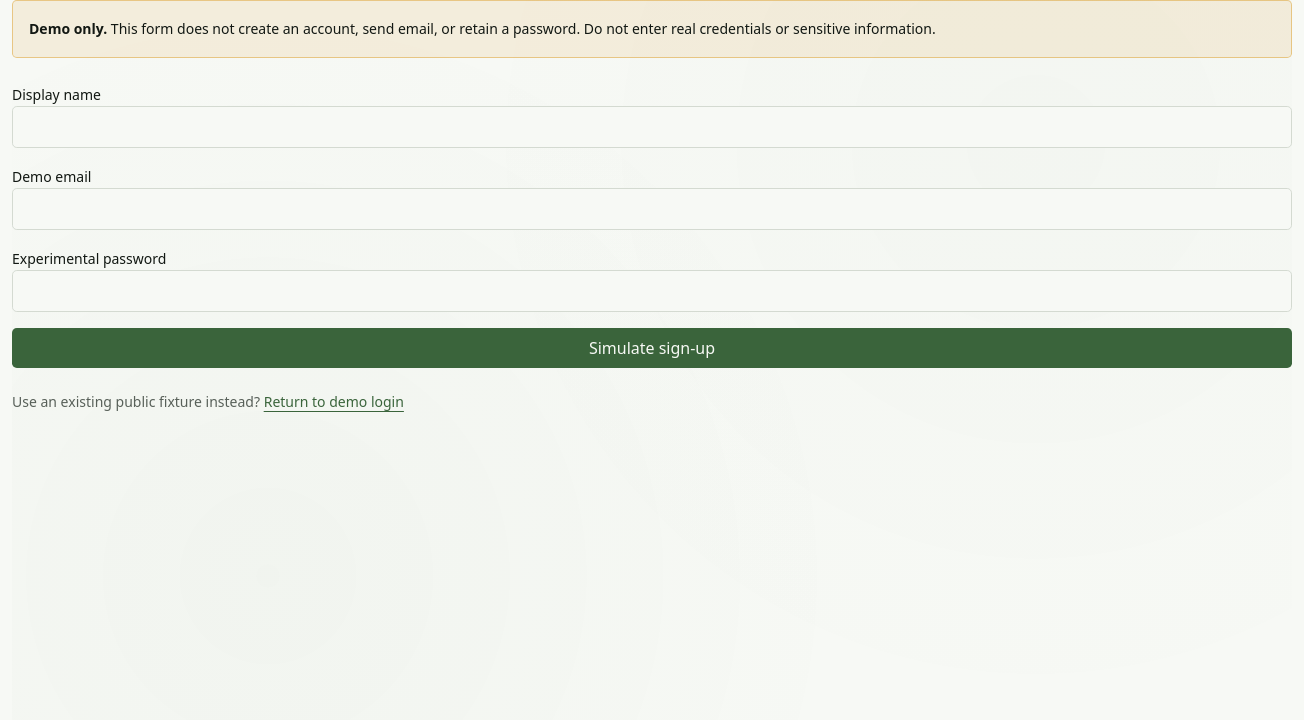
SignupForm › validates fields and clearly reports a non-account result
Expected: the element named "Demo security warning" shows "does not create an account", [107,19,936,38]
Click the button "Simulate sign-up" at [652, 348], box [12,328,1292,368]
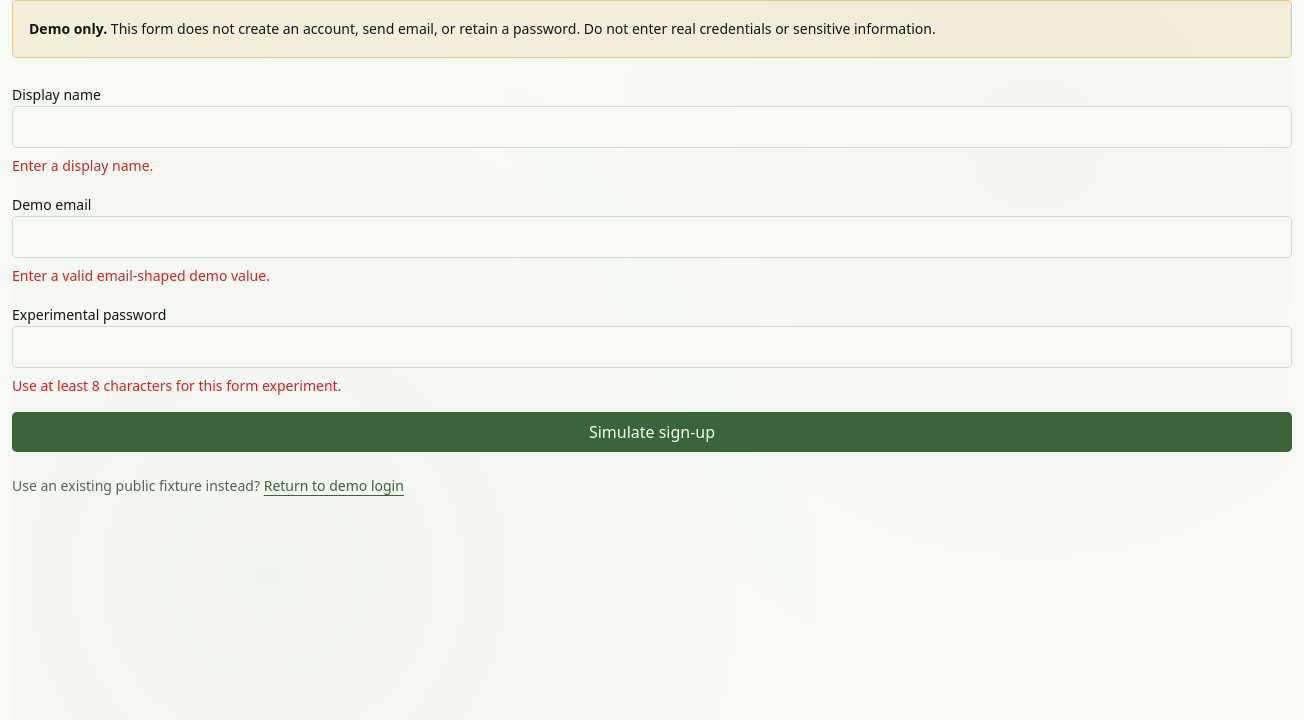
Expected: the text "Enter a display name." is shown, [12,156,153,175]
Type "Sample Person" into the field labelled "Display name" at [652, 127], box [12,106,1292,148]
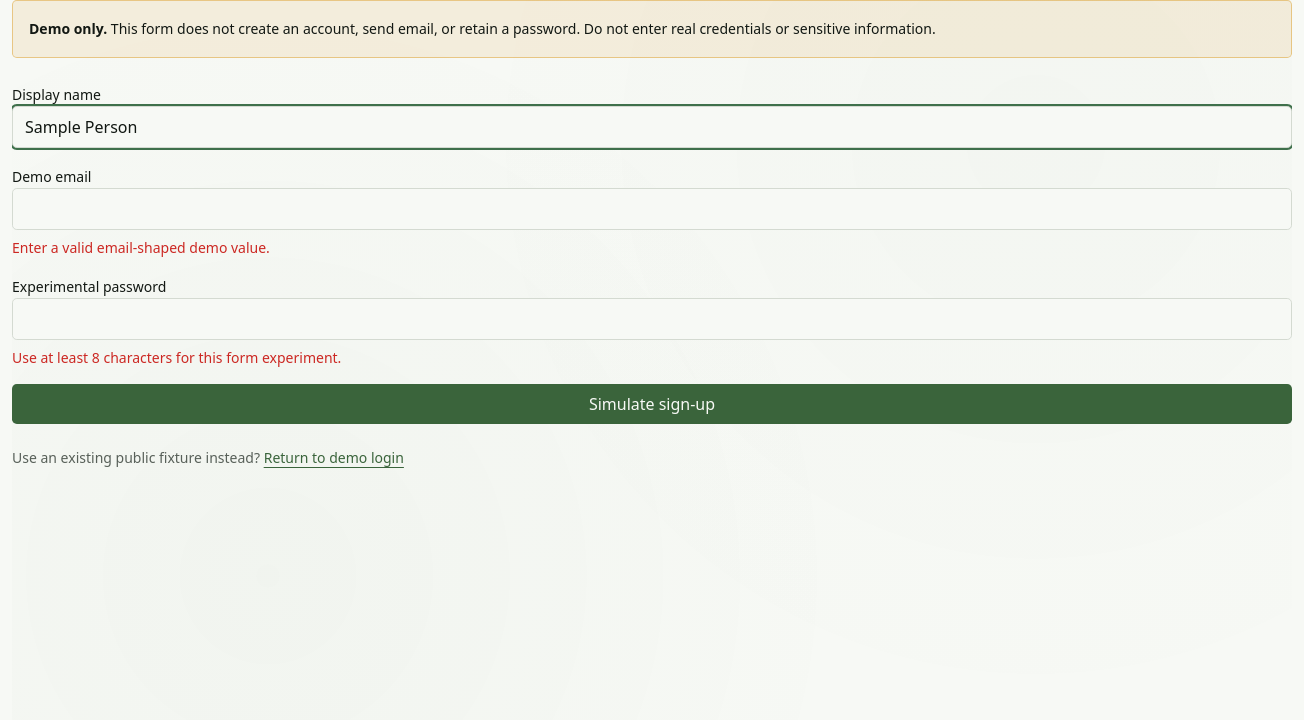
Type "sample@example.invalid" into the field labelled "Demo email" at [652, 209], box [12,188,1292,230]
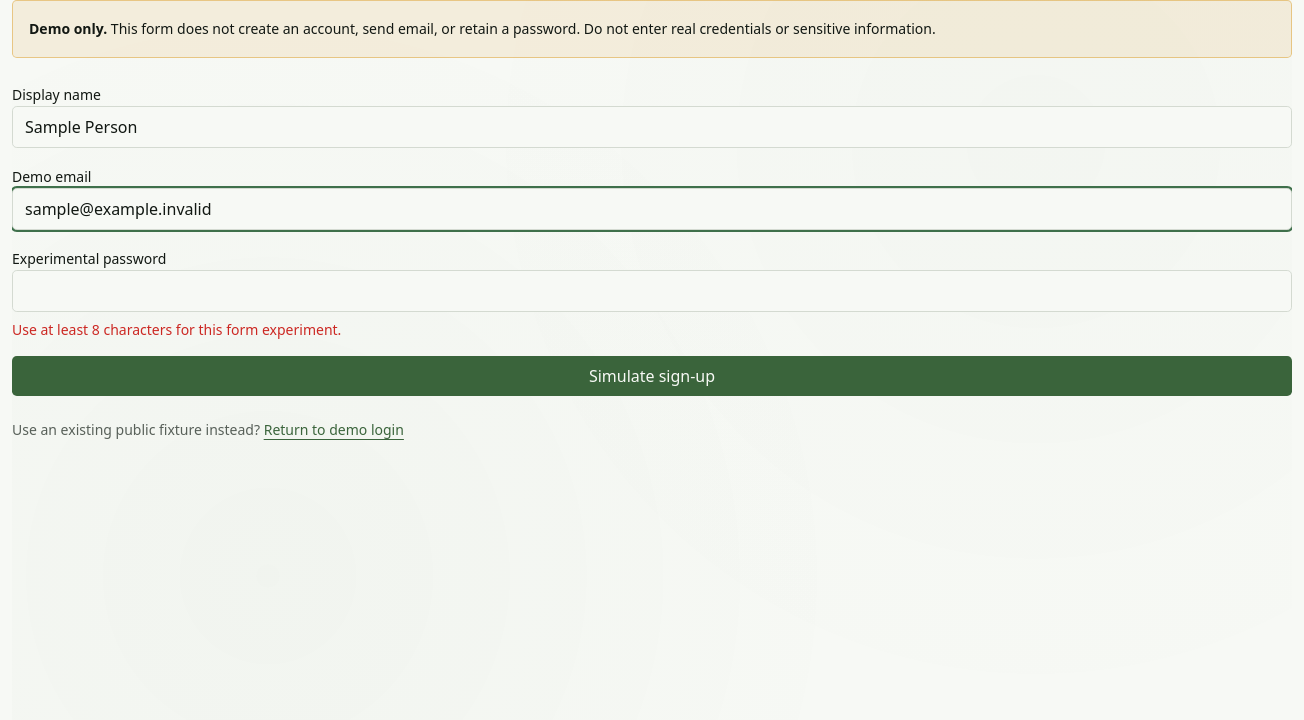
Type "not-a-real-password" into the password field labelled "Experimental password" at [652, 291], box [12,270,1292,312]
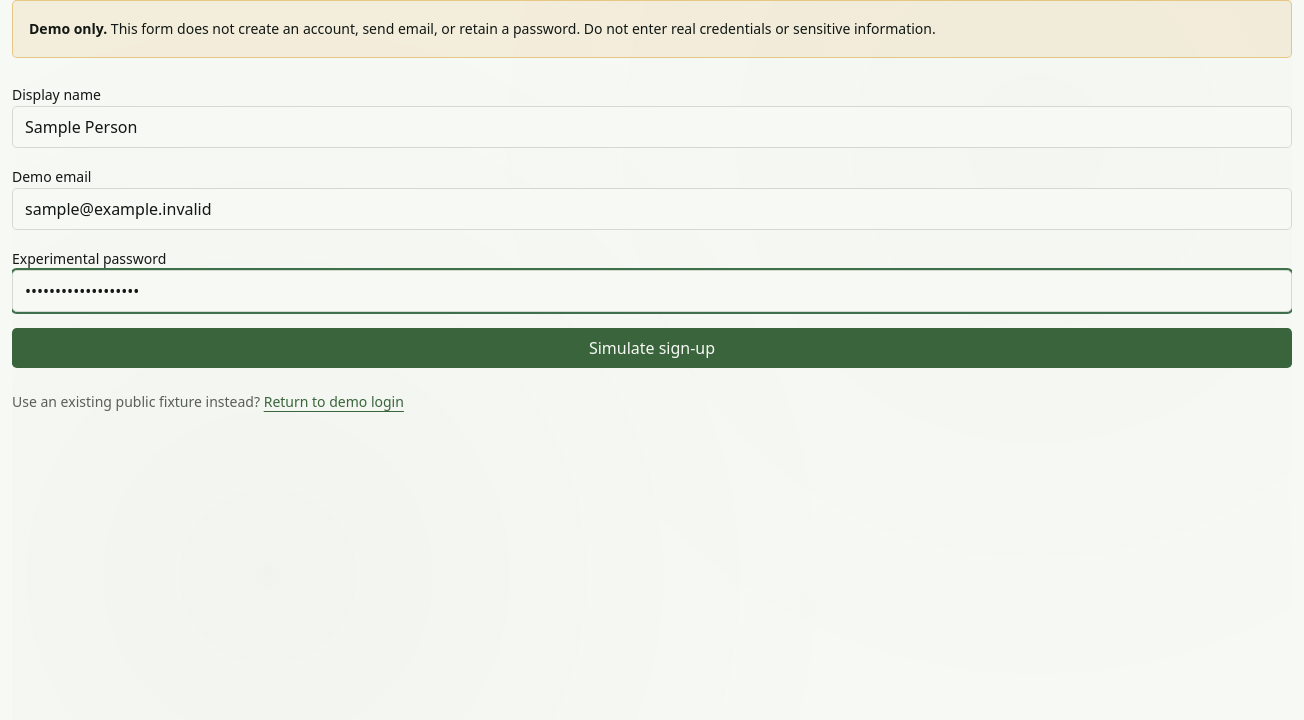
Click the button "Simulate sign-up" at [652, 348], box [12,328,1292,368]
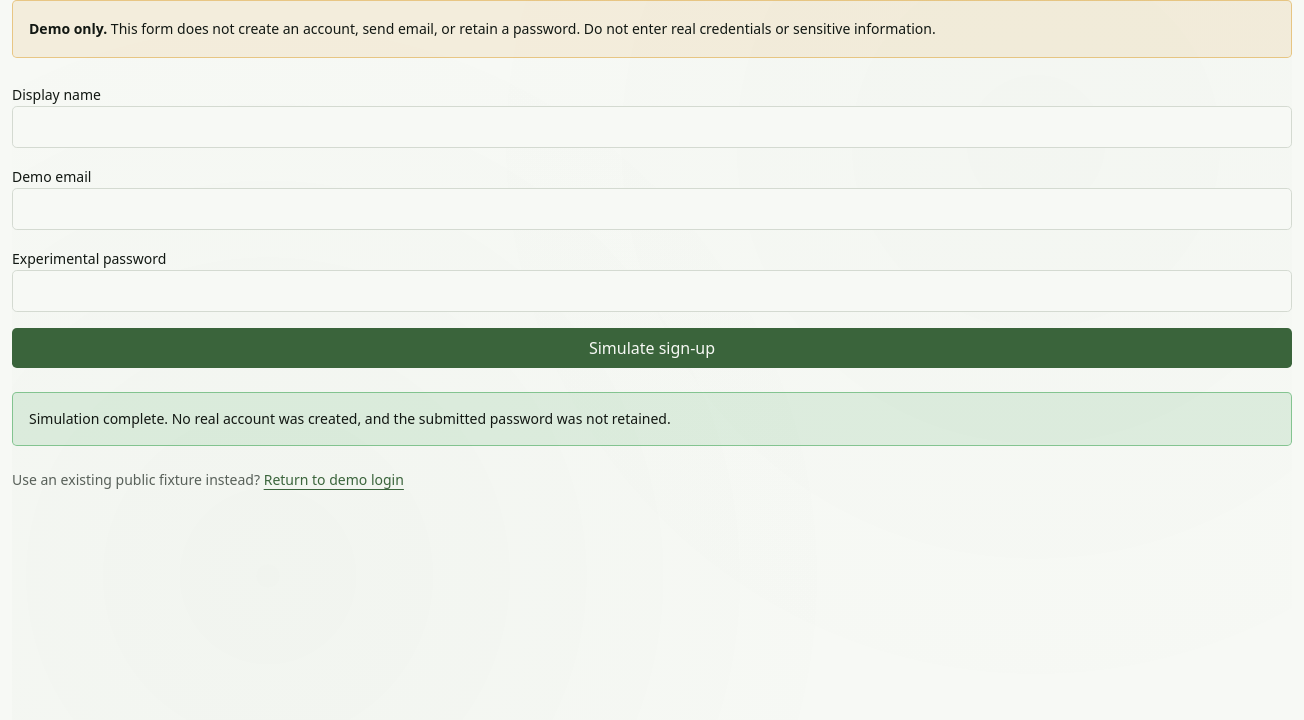
Expected: the message shows "No real account was created", [29,409,671,428]
Expected: the password field labelled "Experimental password" is empty, [12,270,1292,312]
